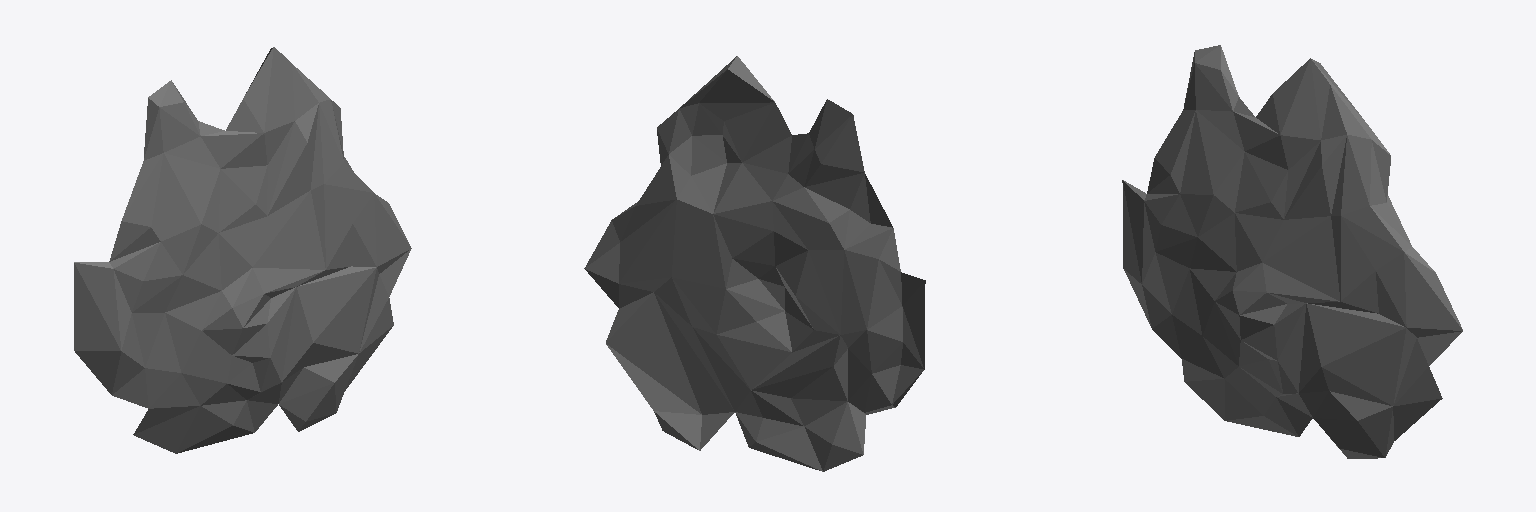
Rendered from meat_5.obj.
The picture shows the model from 3 angles: view 1: azimuth 30°, elevation 25°; view 2: azimuth 150°, elevation 25°; view 3: azimuth 330°, elevation 25°; orthographic projection.
Visible parts, largest first — view 1: Meat_4_low_Meat_4_low; view 2: Meat_4_low_Meat_4_low; view 3: Meat_4_low_Meat_4_low.
Boxes of the visible parts, box(x1,y1,x2,y2) form: Meat_4_low_Meat_4_low: box(74, 47, 411, 453); Meat_4_low_Meat_4_low: box(584, 56, 925, 471); Meat_4_low_Meat_4_low: box(1122, 45, 1462, 458).
Size of the model in its own units: 1.73 by 1.94 by 0.246.